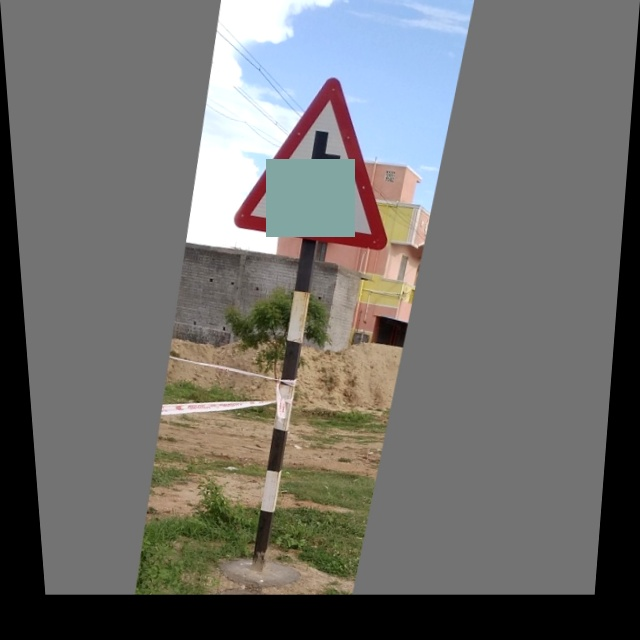Staggered_Intersection: (228, 53, 422, 262)
